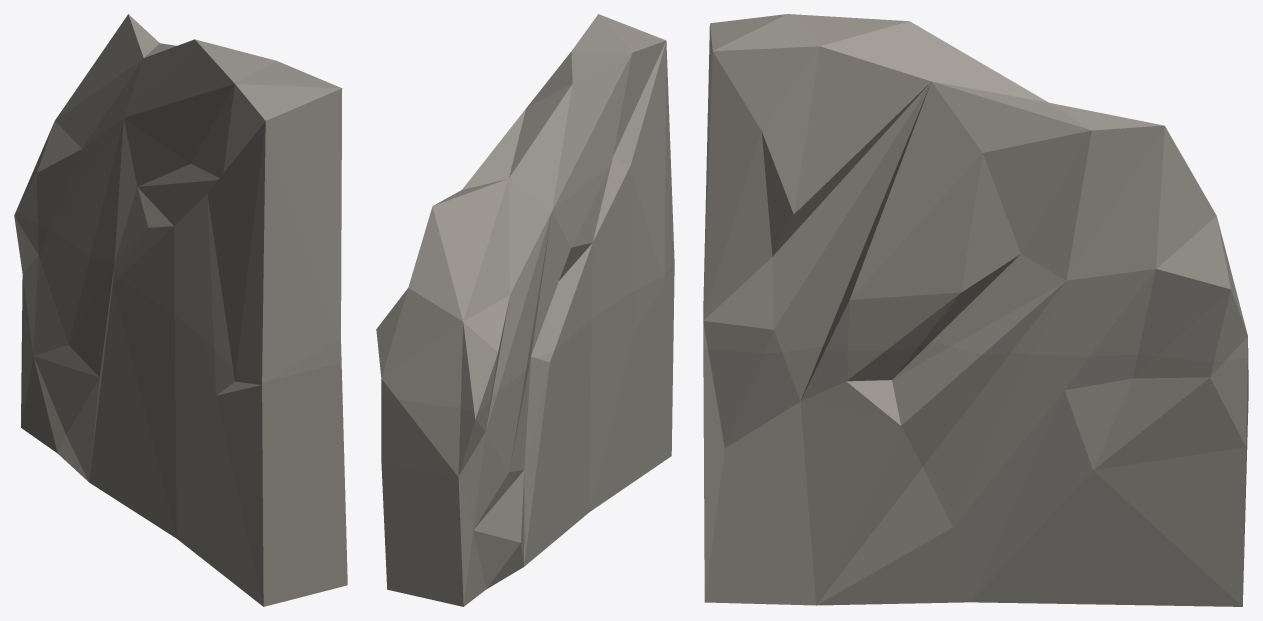
File: YN_RockPlate16.fbx
3 renders of one model, left to right at view 1: azimuth 30°, elevation 25°; view 2: azimuth 150°, elevation 25°; view 3: azimuth 270°, elevation 25°, orthographic. The views are drawn at different scales.
Visible parts, largest first — view 1: RockPlate16; view 2: RockPlate16; view 3: RockPlate16.
Part boxes in pixels (<box>): RockPlate16: <box>14,14,347,606</box>; RockPlate16: <box>376,14,674,606</box>; RockPlate16: <box>703,14,1248,606</box>.
Bounding box in the file's own units: 0.881 × 3.51 × 3.14.
